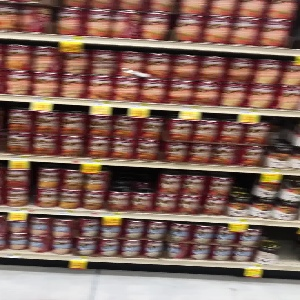void: (279, 226, 300, 264)
